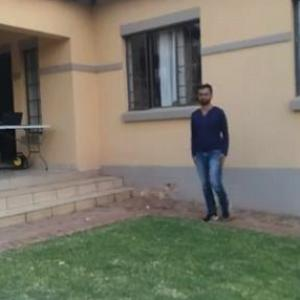follow: (187, 79, 235, 226)
